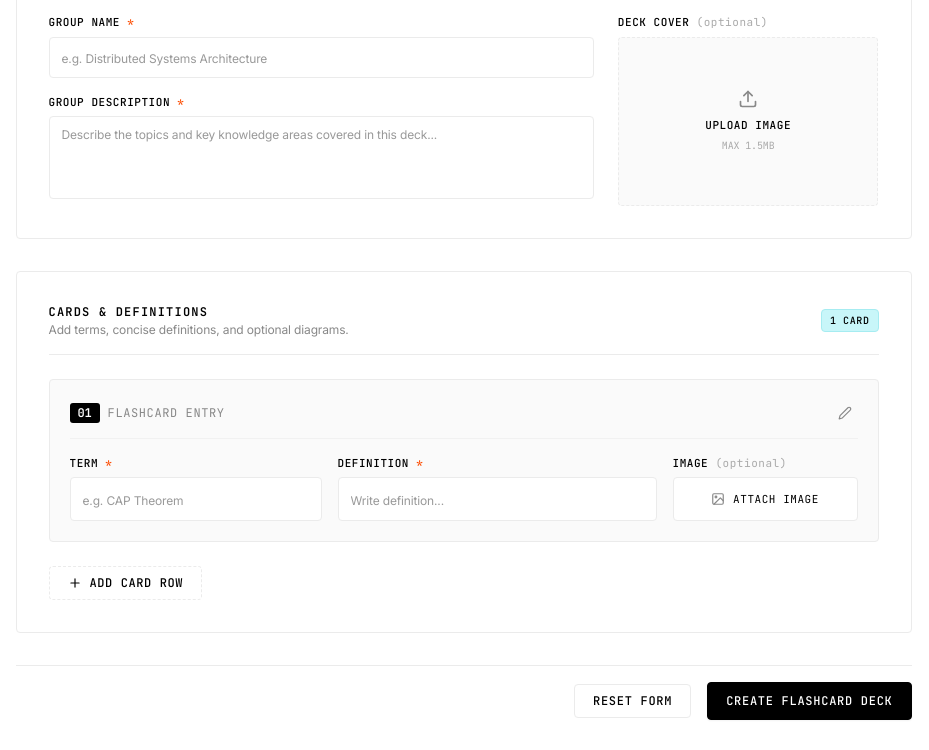
Test: CreateFlashcard component › displays validation error messages when submitting empty form
(page scrolled)
Click the button "CREATE FLASHCARD DECK": coordinates (809, 701) [707,682,912,720]
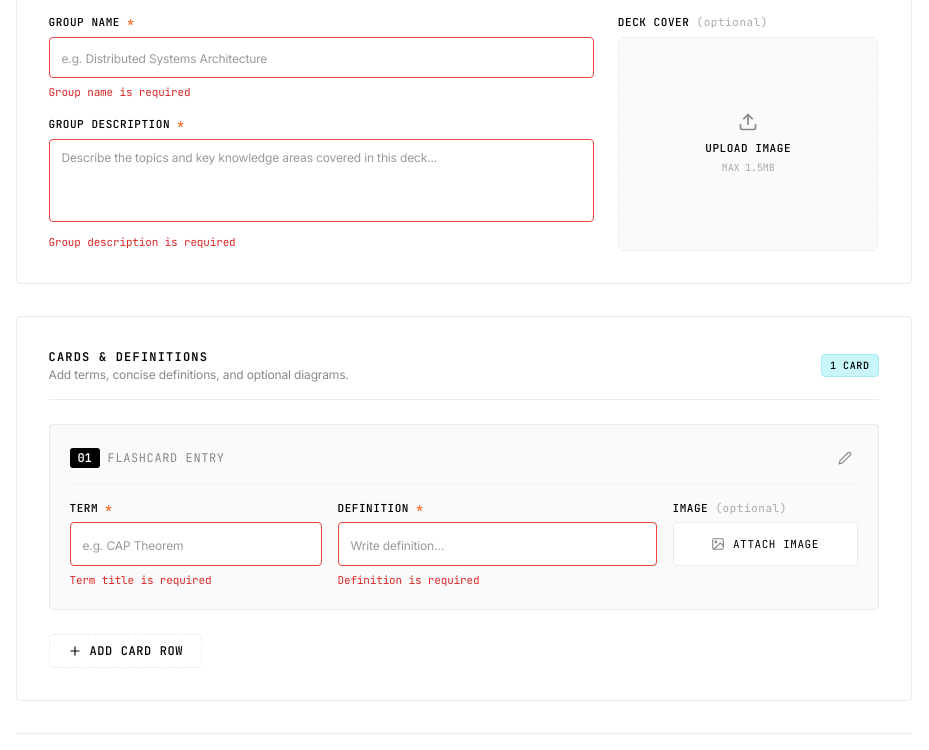
Now the text "Group name is required" is shown, box [48,84,190,98]
Now the text "Group description is required" is shown, box [48,235,236,249]
Now the text "Term title is required" is shown, box [70,573,211,587]
